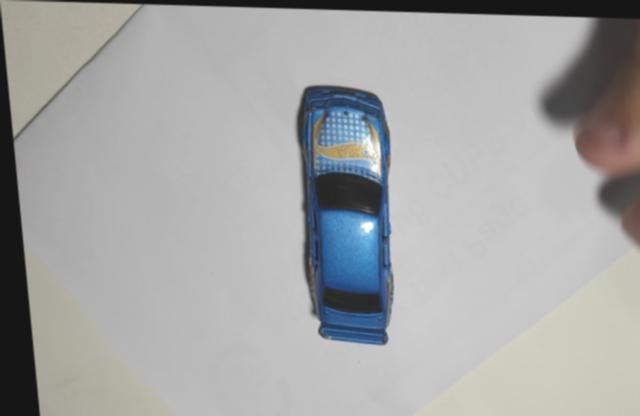04_MERZEDES: (294, 82, 389, 344)
